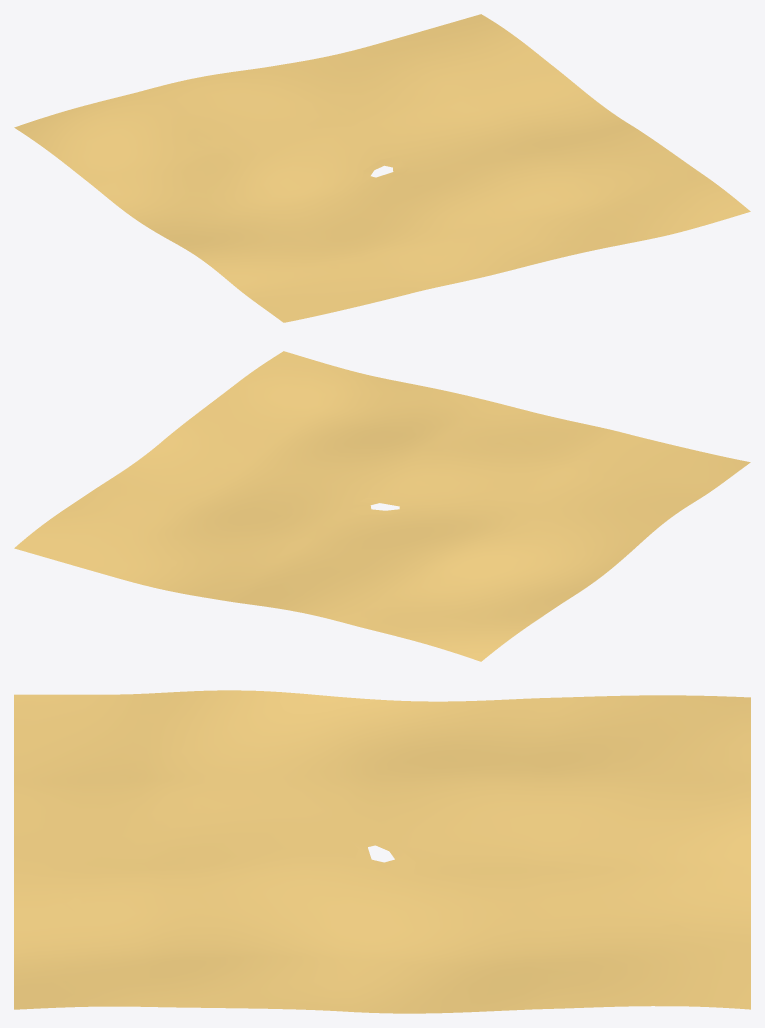
The model's file is Dunes.fbx.
The picture shows the model from 3 angles, top to bottom: view 1: azimuth 30°, elevation 25°; view 2: azimuth 150°, elevation 25°; view 3: azimuth 270°, elevation 25°; orthographic projection. The views are drawn at different scales.
Visible parts, largest first — view 1: background; view 2: background; view 3: background.
Part boxes in pixels (x1,y1,x2,y2): background: (14,14,750,322); background: (14,351,750,661); background: (14,690,750,1013).
Size of the model in its own units: 2000 by 55.8 by 2000.
